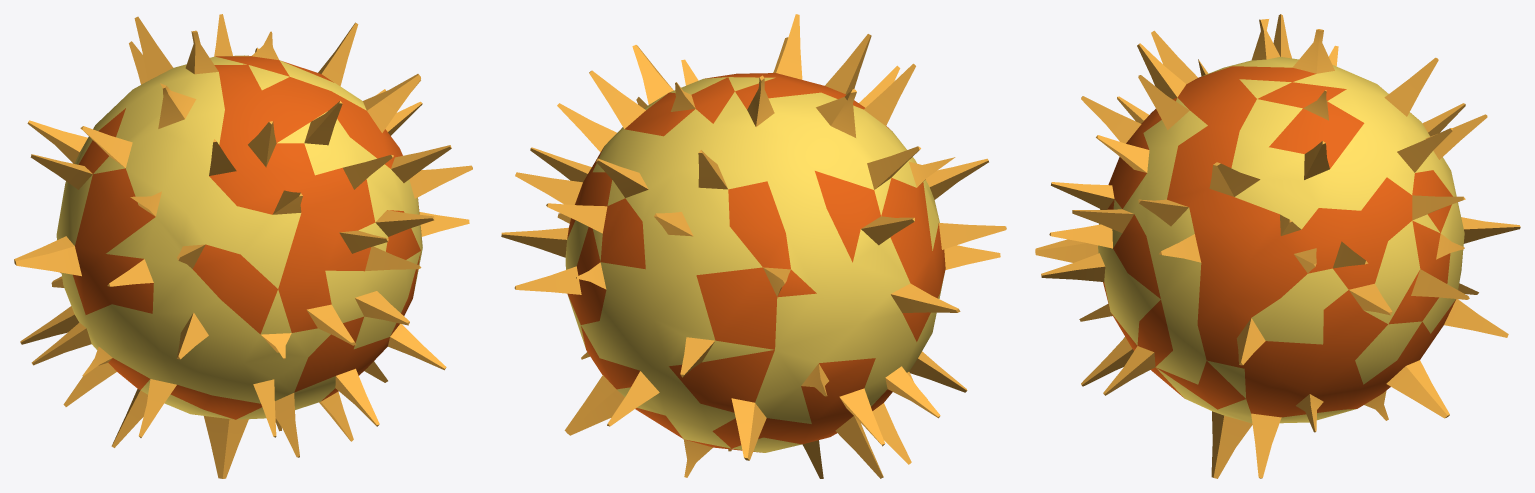
Rendered from Sol.fbx.
3 views of the same model, side by side, from view 1: azimuth 30°, elevation 25°; view 2: azimuth 150°, elevation 25°; view 3: azimuth 270°, elevation 25° (orthographic). The views are drawn at different scales.
Visible parts, largest first — view 1: Toy_Planet_8; view 2: Toy_Planet_8; view 3: Toy_Planet_8.
Boxes of the visible parts, x1=… form: Toy_Planet_8: x1=14, y1=14, x2=472, y2=478; Toy_Planet_8: x1=501, y1=14, x2=1006, y2=478; Toy_Planet_8: x1=1035, y1=14, x2=1520, y2=478.
Bounding box in the file's own units: 265 × 250 × 265.
